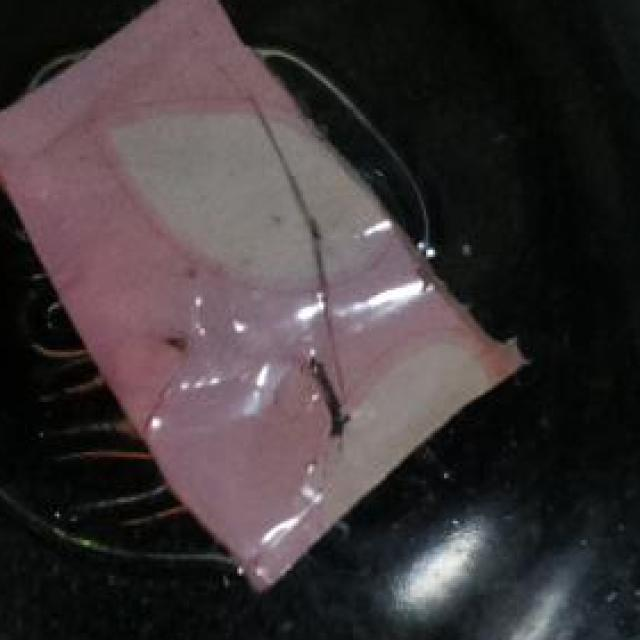Microplastic: (0, 0, 528, 611)
